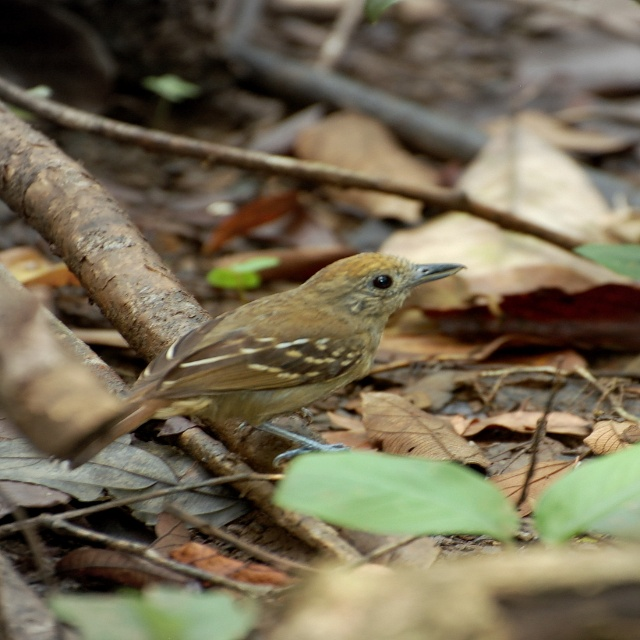Sparrow: (46, 247, 469, 473)
